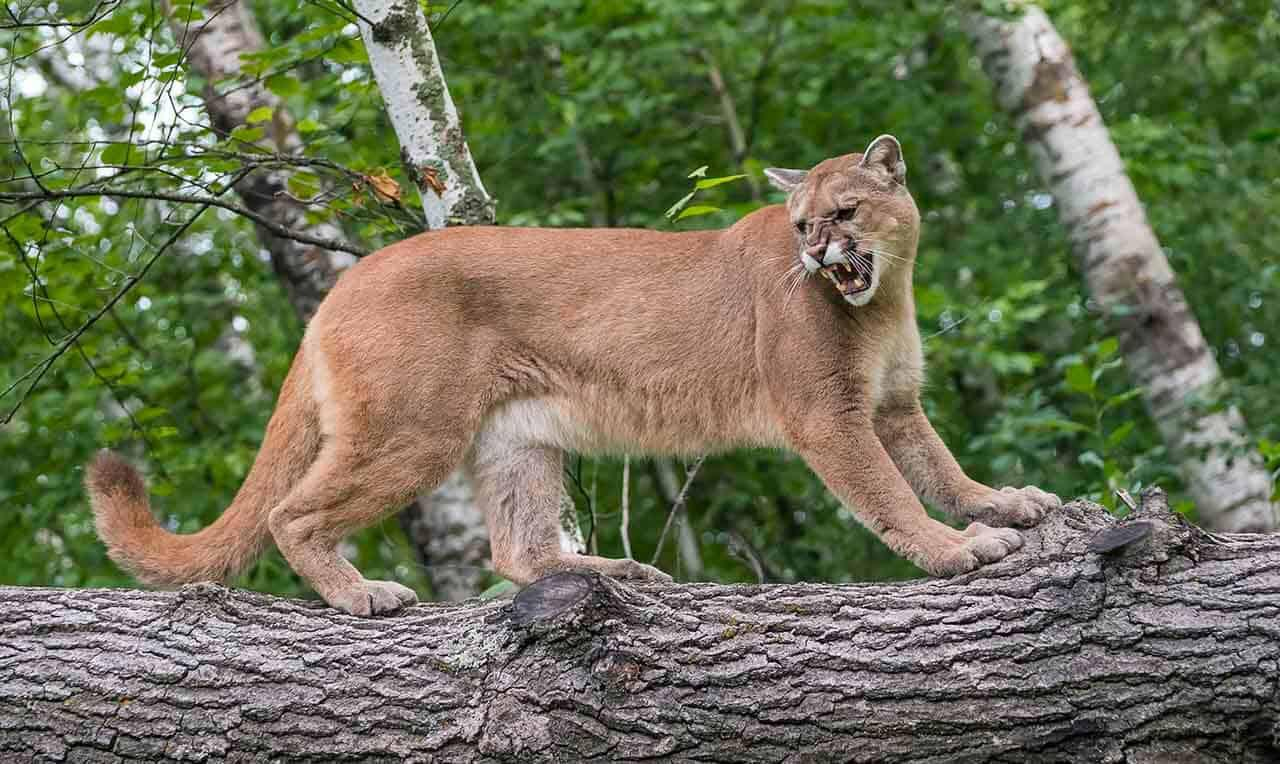OncaParda: (79, 133, 1068, 622)
